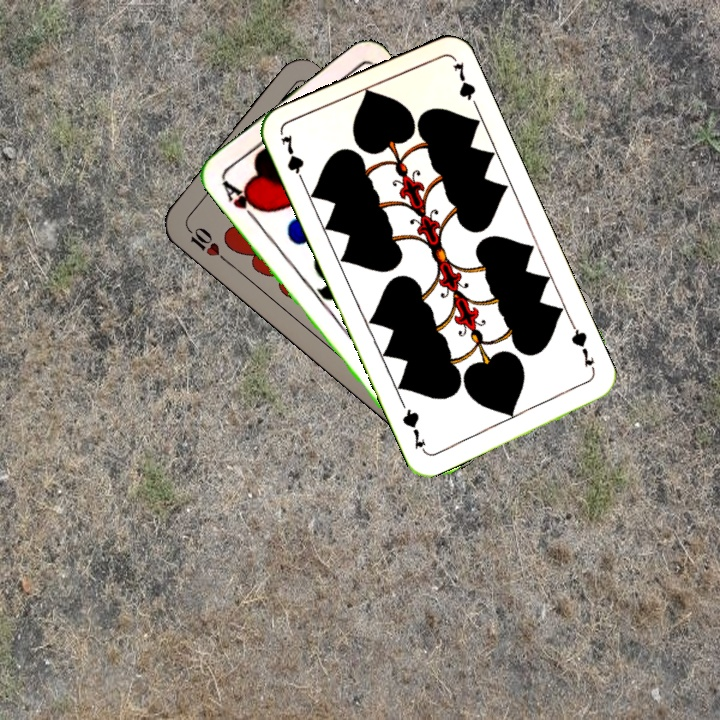G7: (276, 130, 308, 188), (567, 320, 598, 376)
H10: (181, 221, 230, 265)
HA: (217, 175, 265, 225)
